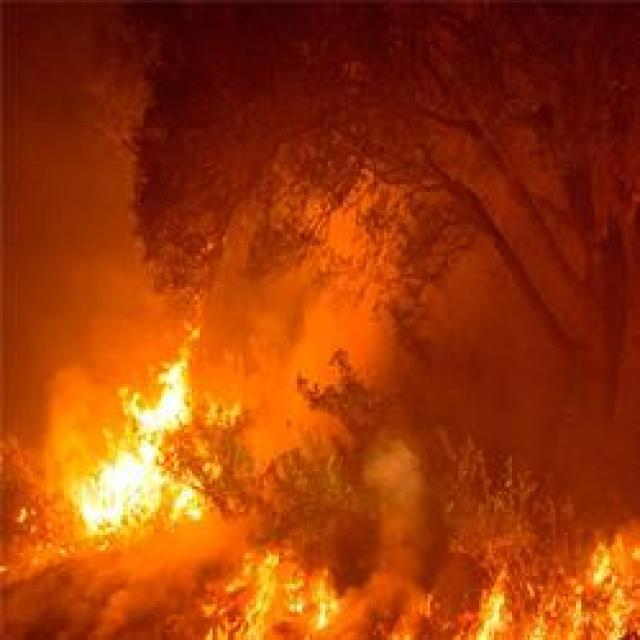Fire: (242, 528, 640, 640), (73, 346, 218, 528)
Smoke: (10, 0, 640, 461)
